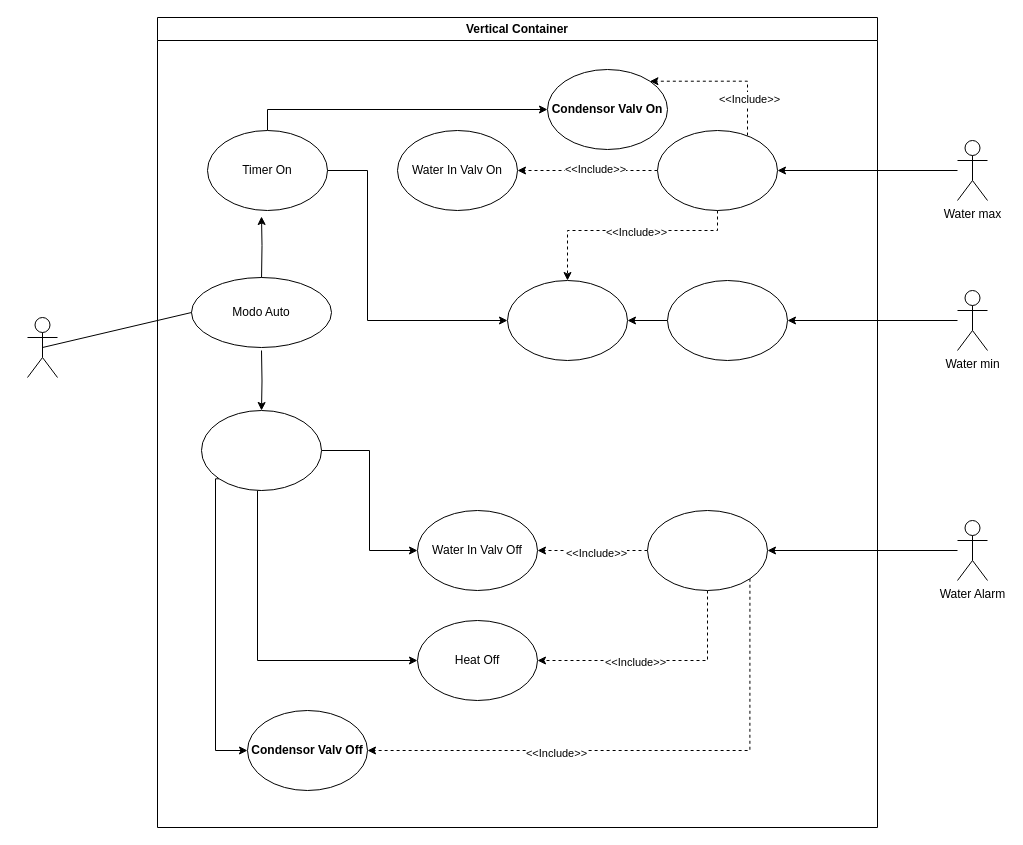
This 1023x845 diagram has some shape labels left out. The shapes that lost their labels are listed below. From the top down, each one's centre as x and y in pixels, then its label:
At (x=717, y=170): "Pump Off".
At (x=567, y=320): "Heat On".
At (x=727, y=320): "Pump On".
At (x=42, y=347): "Utilizador".
At (x=261, y=450): "Timer Off".
At (x=707, y=550): "Alarm".
